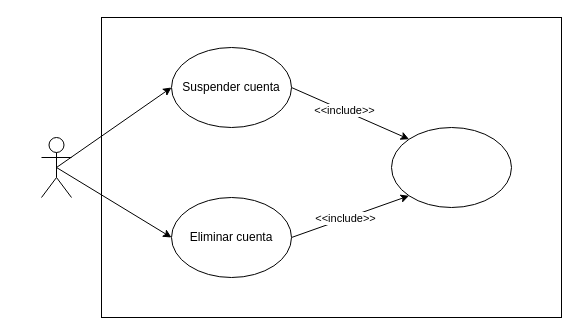
This 579x335 diagram has some shape labels left out. The shapes that lost their labels are listed below. From the top down, each one's centre as x and y in pixels, then its label:
At [56,167]: "Usuario Admin".
At [451,167]: "Revisar incumplimiento de normas".
